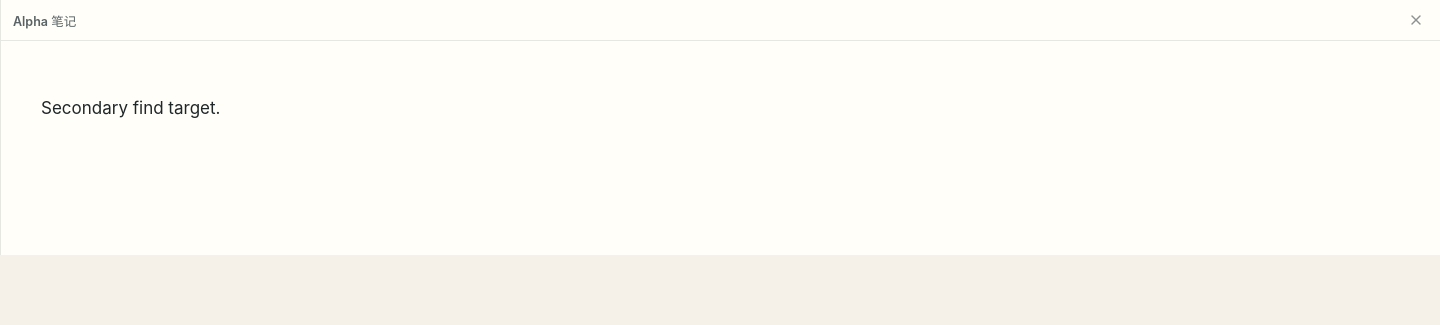
SecondaryPane › opens an in-document find bar on Ctrl+F when the pane is focused
Press f in the element with class "markdown-body", box [41,98,220,118]
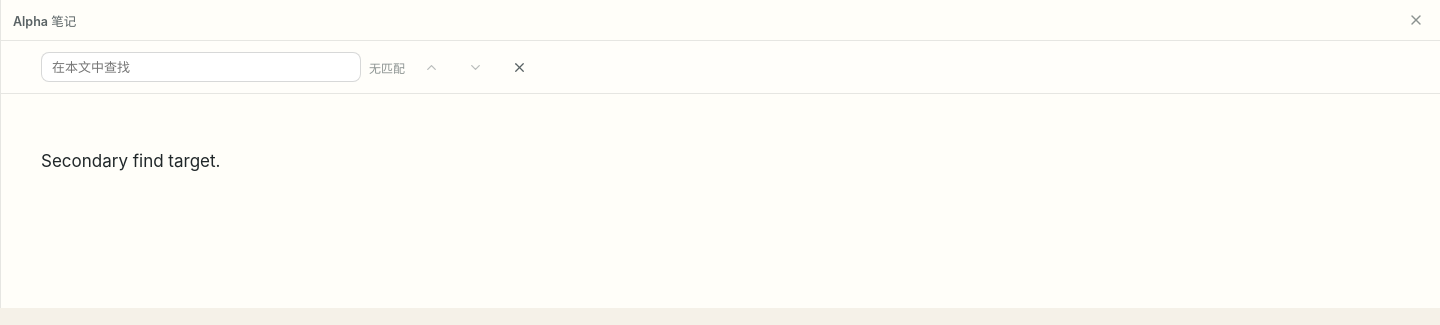
Type "Secondary" into the search field named "查找内容" at {"x": 201, "y": 67}, box [41,52,361,82]
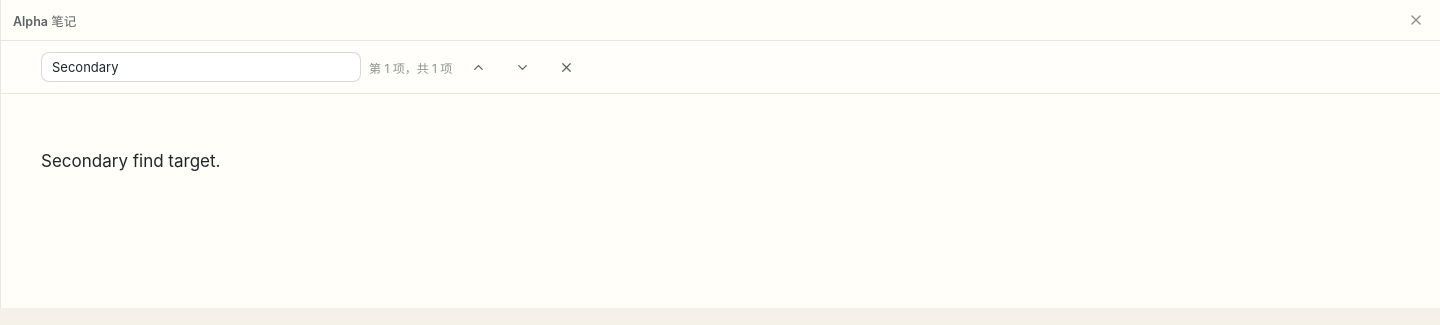
Now the text "第 1 项，共 1 项" is shown, box [369,58,452,76]
